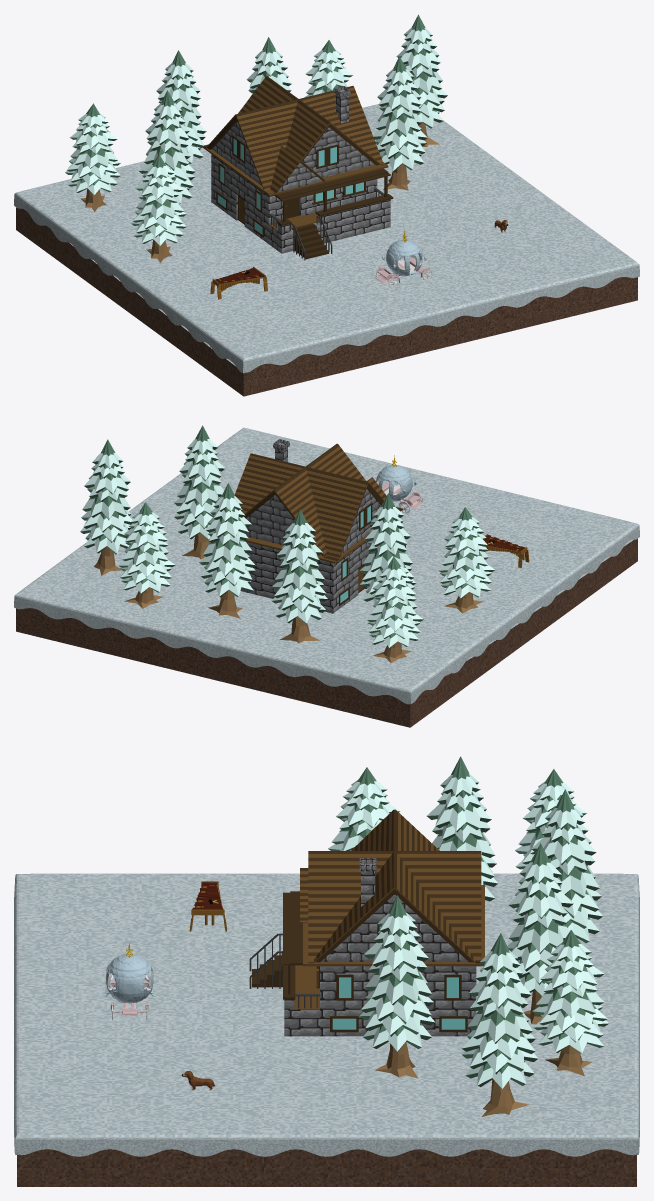
3 views of the same model, one above another, from view 1: azimuth 30°, elevation 25°; view 2: azimuth 150°, elevation 25°; view 3: azimuth 270°, elevation 25° (orthographic). The views are drawn at different scales.
Visible parts, largest first — view 1: Cube.003, Cube.586, VEHICLES_FANTASY_CARRIAGE, OBJRANDOM_MARIMBA; view 2: Cube.003, Cube.586, VEHICLES_FANTASY_CARRIAGE, OBJRANDOM_MARIMBA; view 3: Cube.003, Cube.586, VEHICLES_FANTASY_CARRIAGE, OBJRANDOM_MARIMBA.
Part boxes in pixels (left/top/right/bottom): Cube.003: left=14, top=14, right=639, bottom=396; Cube.586: left=202, top=76, right=393, bottom=260; VEHICLES_FANTASY_CARRIAGE: left=375, top=230, right=432, bottom=288; OBJRANDOM_MARIMBA: left=210, top=266, right=267, bottom=299; Cube.003: left=14, top=425, right=639, bottom=727; Cube.586: left=234, top=439, right=405, bottom=613; VEHICLES_FANTASY_CARRIAGE: left=376, top=455, right=423, bottom=513; OBJRANDOM_MARIMBA: left=484, top=534, right=529, bottom=567; Cube.003: left=14, top=756, right=639, bottom=1186; Cube.586: left=249, top=809, right=484, bottom=1036; VEHICLES_FANTASY_CARRIAGE: left=103, top=943, right=155, bottom=1019; OBJRANDOM_MARIMBA: left=189, top=881, right=226, bottom=931.
Size of the model in its own units: 4040 by 1665 by 4040.
26 materials, 4 textured.
